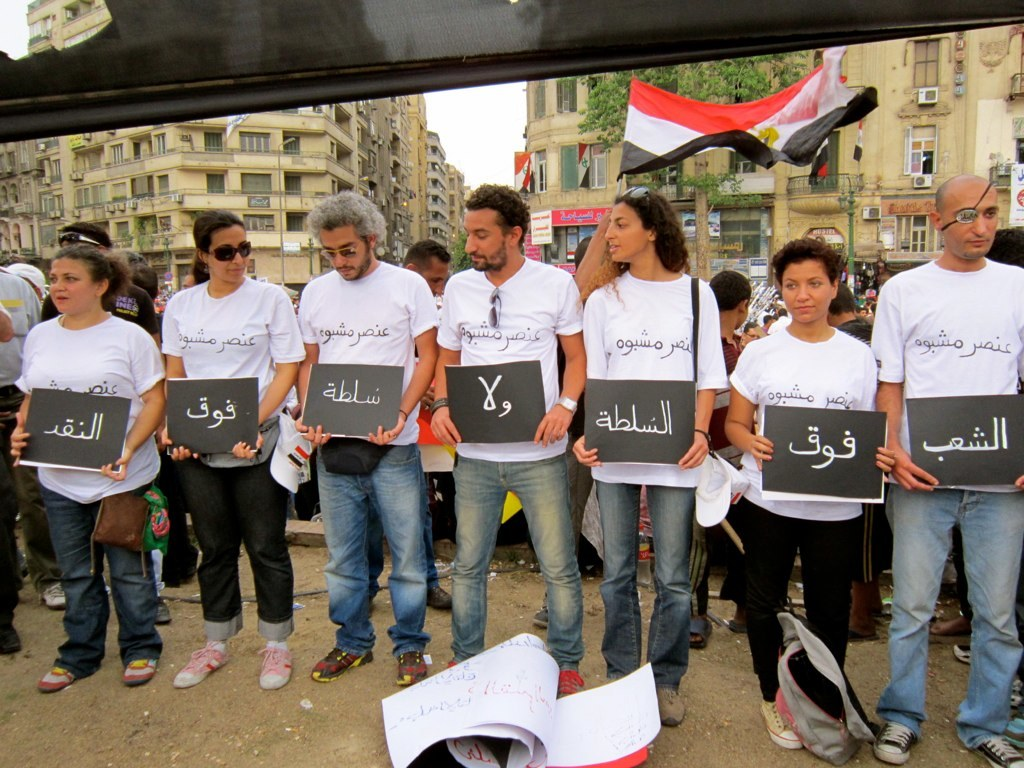Footwear: (172, 639, 229, 685), (307, 634, 365, 678), (763, 703, 801, 755), (972, 731, 1023, 767), (937, 599, 975, 642), (875, 717, 913, 758), (257, 631, 284, 688), (660, 680, 692, 723), (121, 653, 155, 691), (396, 645, 425, 685), (44, 575, 72, 608), (37, 666, 71, 689), (156, 591, 177, 626), (687, 614, 709, 645), (555, 661, 575, 691), (429, 583, 451, 610), (533, 607, 560, 626), (955, 638, 972, 664)
